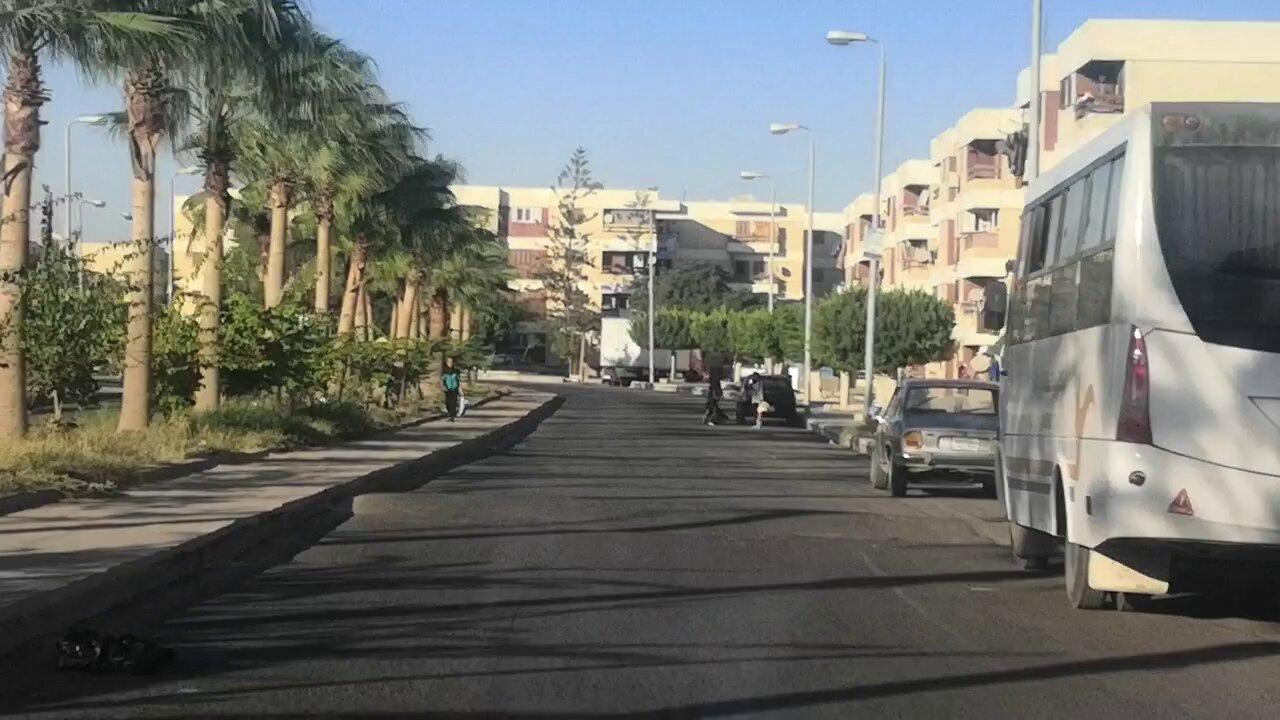Bump: (357, 495, 987, 542)
